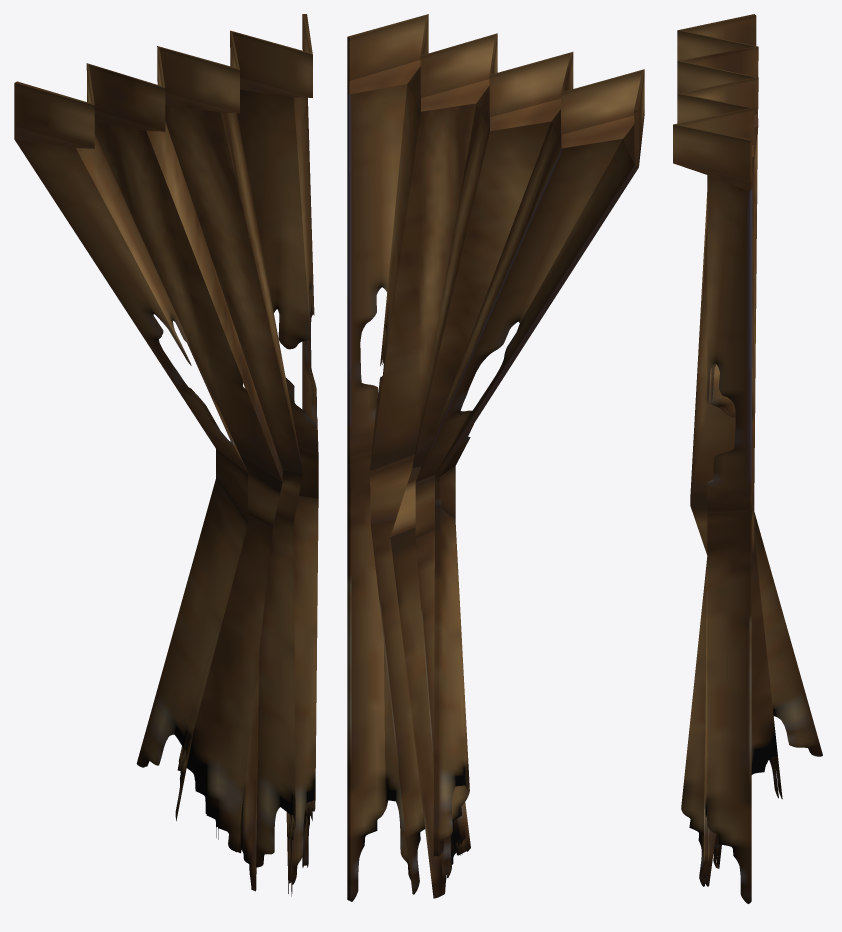
File: Inside_Poly_Curtain_08.obj
The picture shows the model from 3 angles, left to right: view 1: azimuth 30°, elevation 25°; view 2: azimuth 150°, elevation 25°; view 3: azimuth 270°, elevation 25°; orthographic projection. The views are drawn at different scales.
Parts seen in each view (by area): view 1: Plane.001; view 2: Plane.001; view 3: Plane.001.
Part boxes in pixels (box(x1,y1,x2,y2)): Plane.001: box(14, 14, 318, 896); Plane.001: box(347, 14, 644, 901); Plane.001: box(673, 14, 822, 903).
Size of the model in its own units: 0.7 by 2 by 0.3614.
Materials: 1 (1 with a texture image).
